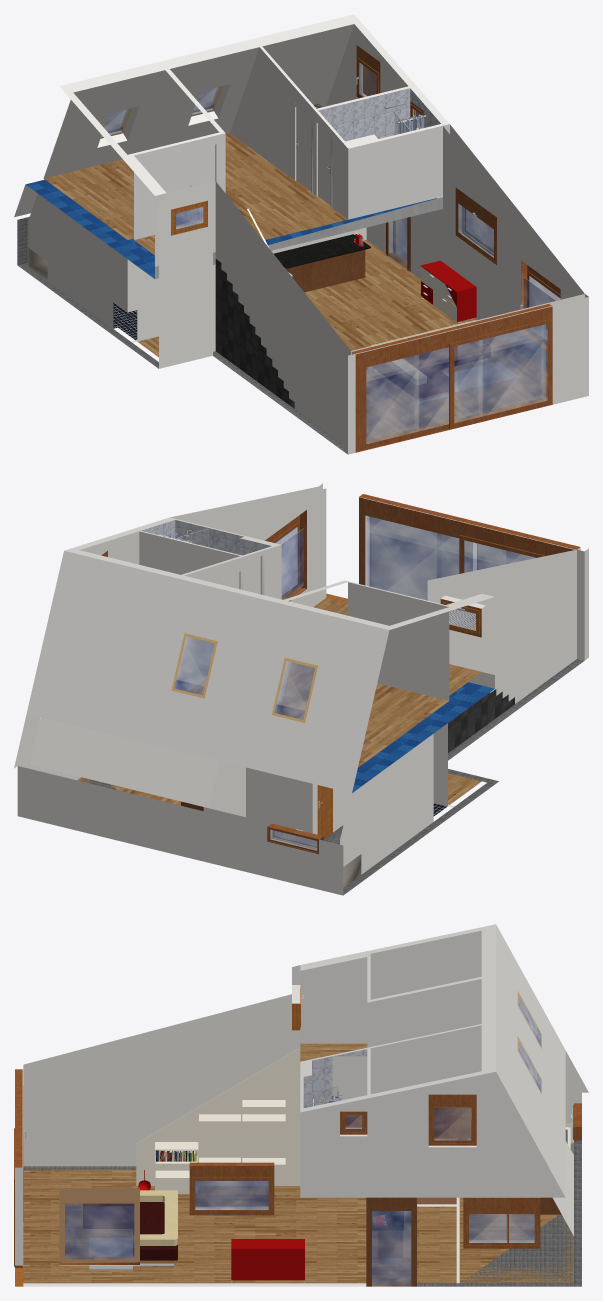
Rendered from appartement.glb.
The picture shows the model from 3 angles, top to bottom: view 1: azimuth 30°, elevation 25°; view 2: azimuth 150°, elevation 25°; view 3: azimuth 270°, elevation 25°; orthographic projection. The views are drawn at different scales.
Parts seen in each view (by area): view 1: structure_rez, structure_etage, rez__baie_vitree, rez__escalier, rez__Bar_cuisine, rez__canape_salon#1, rez__meuble_salon, rez__Fenetre_salon_haute, rez__fenetre_salon_grande, etage__porte_chambre_etage, etage__porte_douche_etage, etage__porte_dressing (+4 smaller); view 2: structure_etage, structure_rez, rez__baie_vitree, rez__fenetre_salon_grande, etage__Velux, etage__Velux_2, rez__escalier, etage__porte_dressing, rez__Fenetre_salle_de_bain, rez__porte_interieure_88x218, rez__store_fenetre, etage__porte_douche_etage; view 3: structure_rez, structure_etage, rez__armoire, rez__fenetre_salon_grande, rez__cloison, rez__Fenetre_salon_haute, rez__element_mural, rez__canape_salon#1, rez__fenetre_chambre_coucher, rez__meuble_salon, etage__Fenetre_chambre_etage, etage__porte_douche_etage (+6 smaller).
Part boxes in pixels (box(x1,y1,x2,y2)): structure_rez: box(14, 124, 588, 454); structure_etage: box(26, 14, 449, 278); rez__baie_vitree: box(352, 304, 552, 451); rez__escalier: box(215, 259, 294, 408); rez__Bar_cuisine: box(274, 232, 370, 292); rez__canape_salon#1: box(371, 322, 490, 403); rez__meuble_salon: box(420, 260, 476, 324); rez__Fenetre_salon_haute: box(455, 187, 496, 264); rez__fenetre_salon_grande: box(520, 260, 560, 351); etage__porte_chambre_etage: box(293, 102, 312, 193); etage__porte_douche_etage: box(314, 118, 332, 207); etage__porte_dressing: box(185, 140, 219, 220); structure_etage: box(26, 517, 494, 793); structure_rez: box(14, 483, 588, 895); rez__baie_vitree: box(359, 494, 579, 600); rez__fenetre_salon_grande: box(265, 510, 306, 601); etage__Velux: box(171, 633, 217, 698); etage__Velux_2: box(271, 658, 317, 722); rez__escalier: box(448, 689, 514, 752); etage__porte_dressing: box(350, 589, 387, 685); rez__Fenetre_salle_de_bain: box(267, 823, 323, 853); rez__porte_interieure_88x218: box(315, 784, 334, 838); rez__store_fenetre: box(440, 599, 481, 637); etage__porte_douche_etage: box(244, 550, 264, 594); structure_rez: box(15, 965, 588, 1286); structure_etage: box(300, 924, 565, 1197); rez__armoire: box(155, 1098, 286, 1193); rez__fenetre_salon_grande: box(59, 1188, 139, 1264); rez__cloison: box(136, 1047, 300, 1185); rez__Fenetre_salon_haute: box(189, 1162, 274, 1215); rez__element_mural: box(366, 1197, 416, 1286); rez__canape_salon#1: box(83, 1190, 177, 1265); rez__fenetre_chambre_coucher: box(463, 1197, 540, 1248); rez__meuble_salon: box(231, 1239, 304, 1283); etage__Fenetre_chambre_etage: box(428, 1094, 476, 1145); etage__porte_douche_etage: box(332, 1056, 367, 1128).
Bounding box in the file's own units: 8.55 × 5.8 × 14.06.
201 materials, 164 textured.
